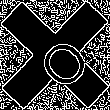O_NW: (21, 22, 89, 88)
